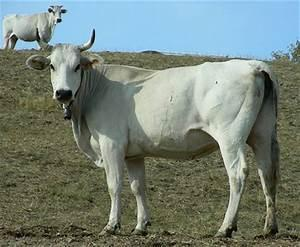cow: (25, 27, 281, 239), (2, 4, 67, 50)
